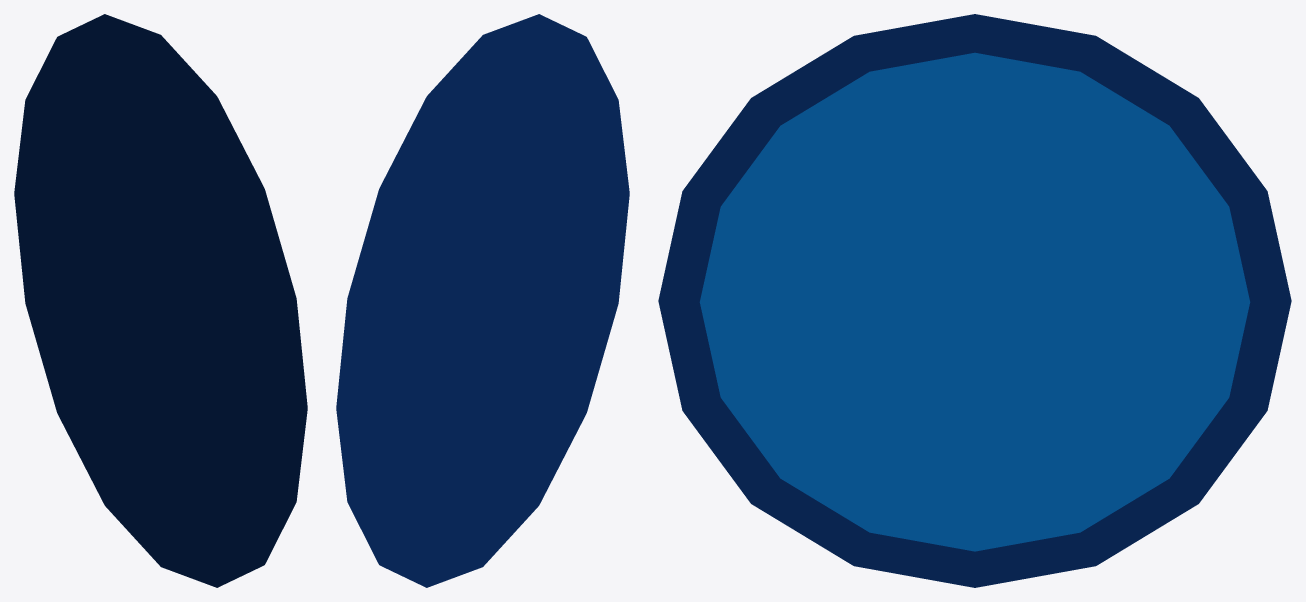
The model's file is christmas_tree_light_blue.dae.
3 views of the same model, side by side, from view 1: azimuth 30°, elevation 25°; view 2: azimuth 150°, elevation 25°; view 3: azimuth 270°, elevation 25° (orthographic). The views are drawn at different scales.
Visible parts, largest first — view 1: christmas_tree_blue; view 2: christmas_tree_blue; view 3: christmas_tree_blue.
Part boxes in pixels (bbox=[...]): christmas_tree_blue: bbox=[14, 14, 307, 587]; christmas_tree_blue: bbox=[336, 14, 629, 587]; christmas_tree_blue: bbox=[658, 14, 1291, 587].
Bounding box in the file's own units: 0.000587 × 0.1341 × 0.1341.
